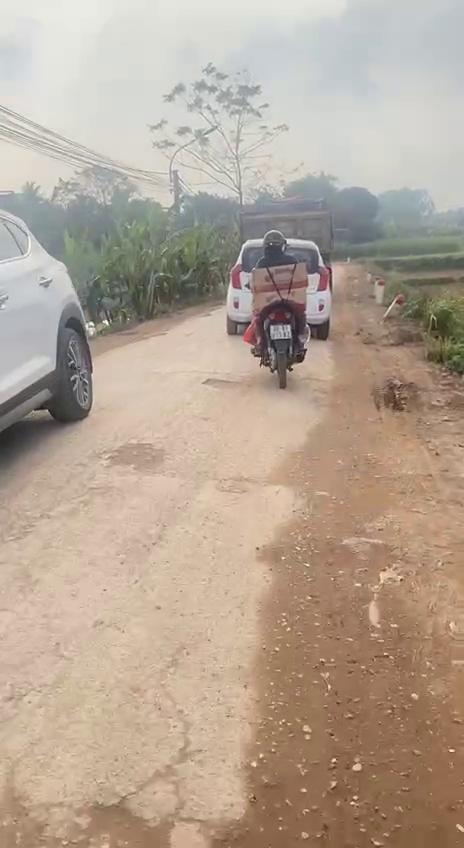pothole: (0, 784, 171, 848), (107, 440, 171, 478), (203, 374, 249, 394)
